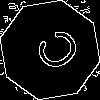C: (25, 25, 83, 80)
